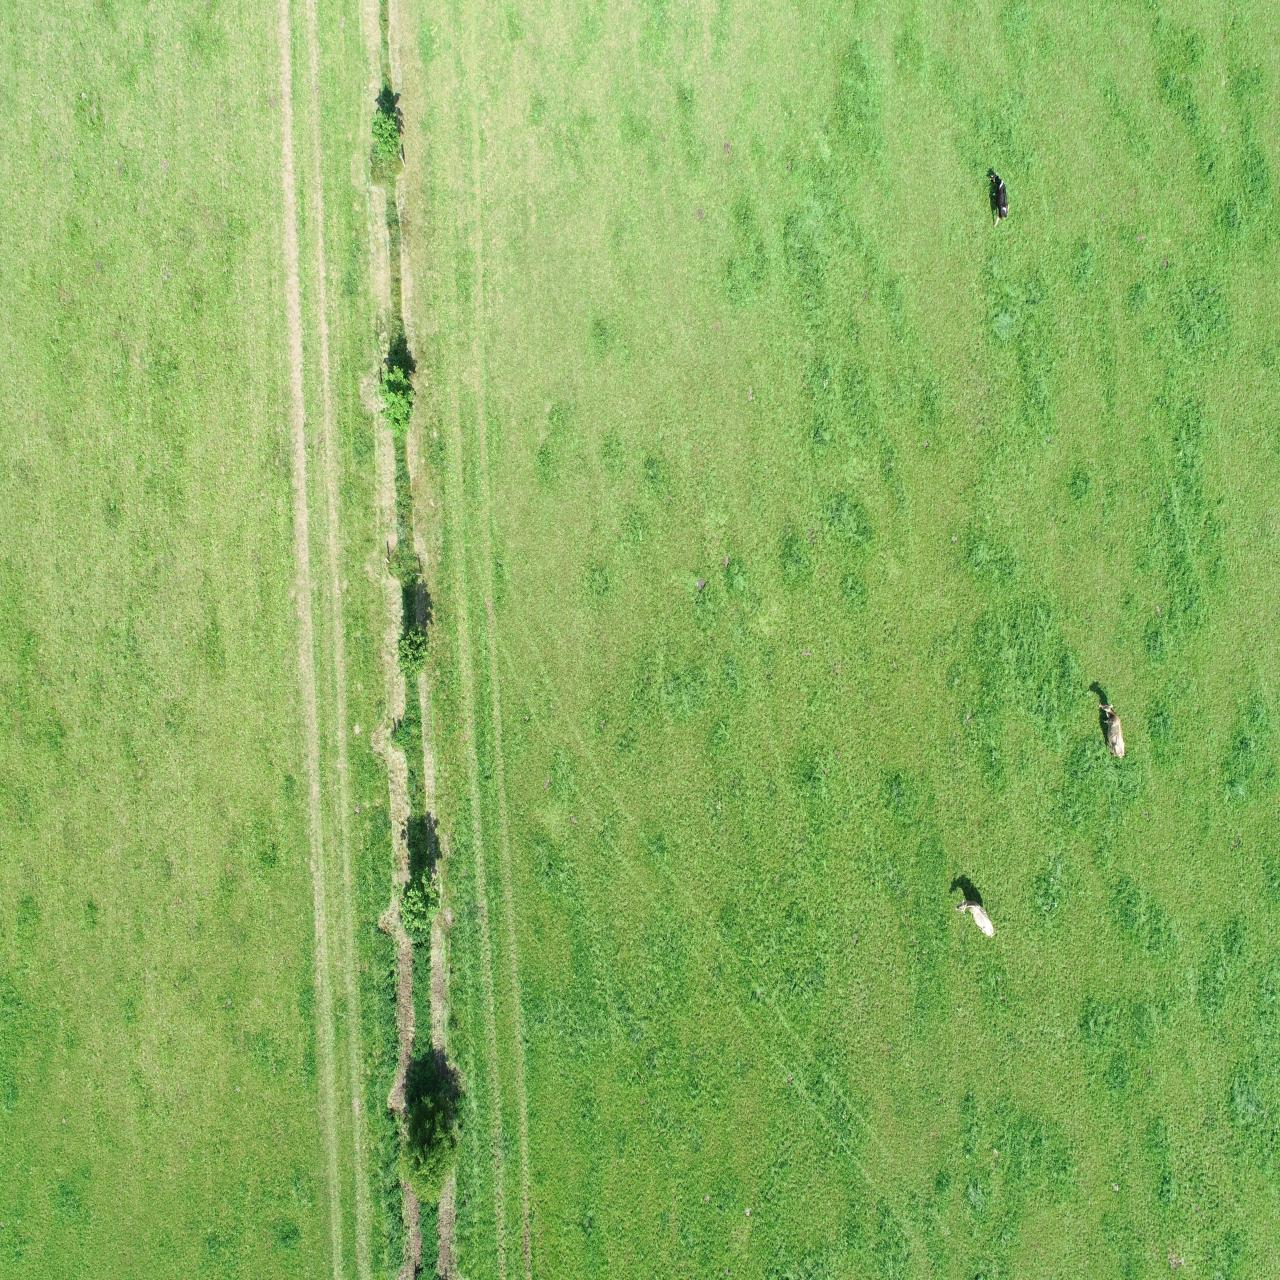cow: (954, 897, 998, 941), (1097, 700, 1126, 760), (986, 170, 1012, 229)
